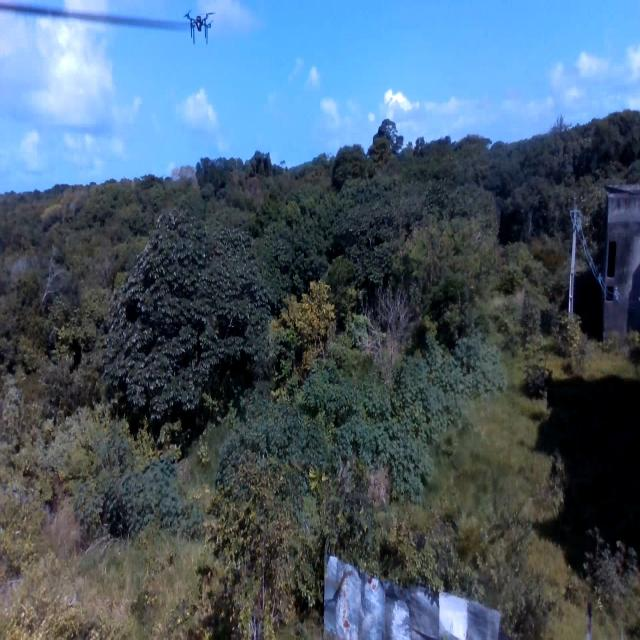-uav-: (180, 7, 221, 52)
